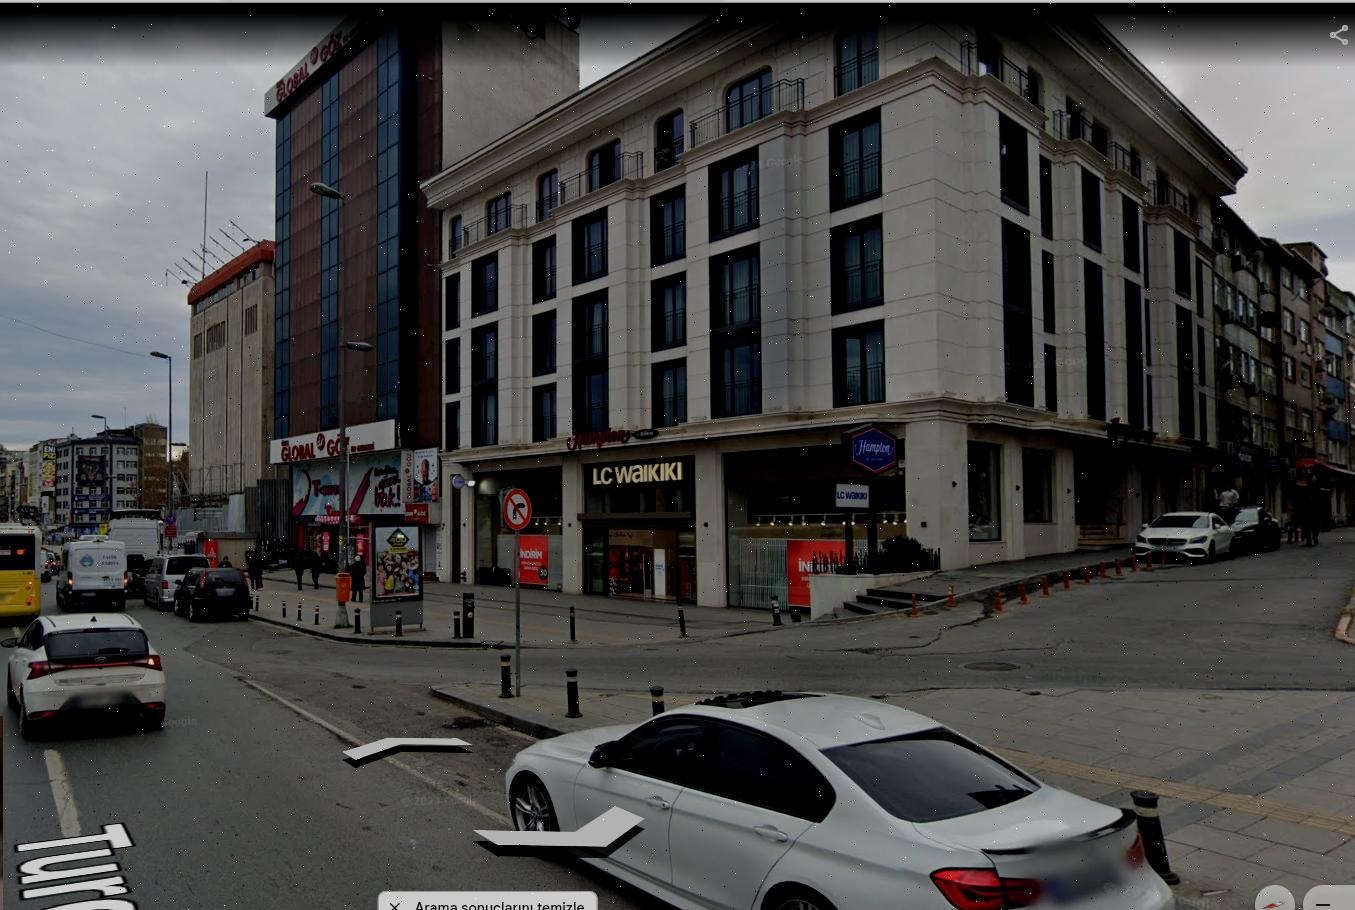turnleft: (505, 490, 531, 526)
